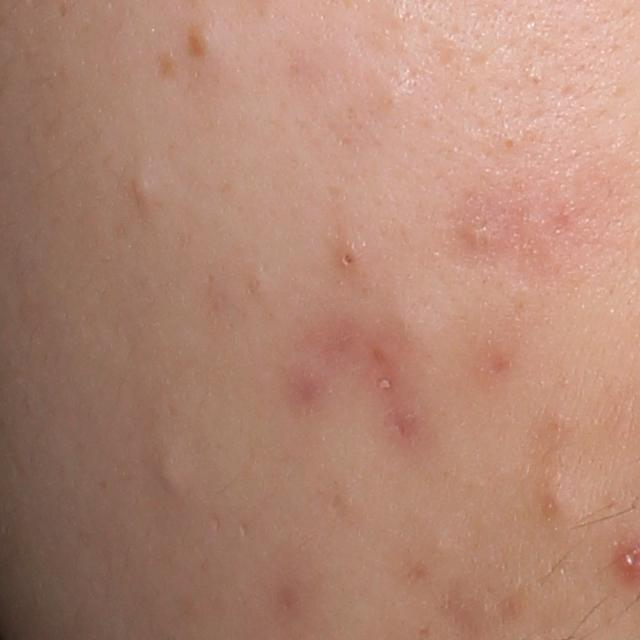comedo: (531, 479, 584, 525), (156, 450, 197, 499), (182, 20, 213, 61), (130, 174, 156, 206), (336, 248, 362, 273), (250, 271, 273, 297), (502, 135, 518, 155)
papule: (456, 215, 496, 249)
